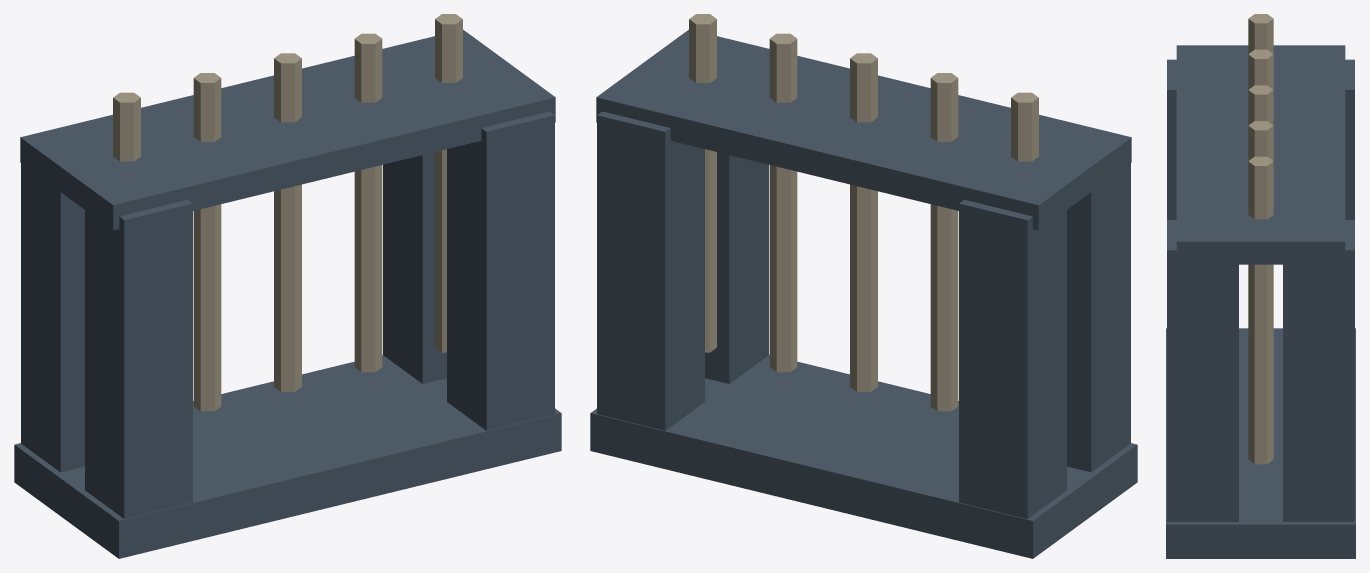
Rendered from L-12_pipette_stand.glb.
3 views of the same model, side by side, from view 1: azimuth 30°, elevation 25°; view 2: azimuth 150°, elevation 25°; view 3: azimuth 270°, elevation 25° (orthographic). The views are drawn at different scales.
Parts seen in each view (by area): view 1: L-12_pipette_stand; view 2: L-12_pipette_stand; view 3: L-12_pipette_stand.
Part boxes in pixels (x1=…): L-12_pipette_stand: x1=14, y1=14, x2=561, y2=558; L-12_pipette_stand: x1=590, y1=14, x2=1137, y2=558; L-12_pipette_stand: x1=1166, y1=14, x2=1355, y2=558.
Bounding box in the file's own units: 0.22 × 0.194 × 0.09.
